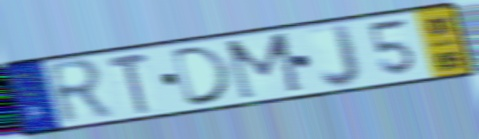5: (364, 18, 419, 79)
D: (169, 43, 236, 110)
J: (318, 22, 364, 89)
M: (222, 30, 308, 103)
R: (43, 56, 117, 129)
T: (104, 51, 153, 116)
